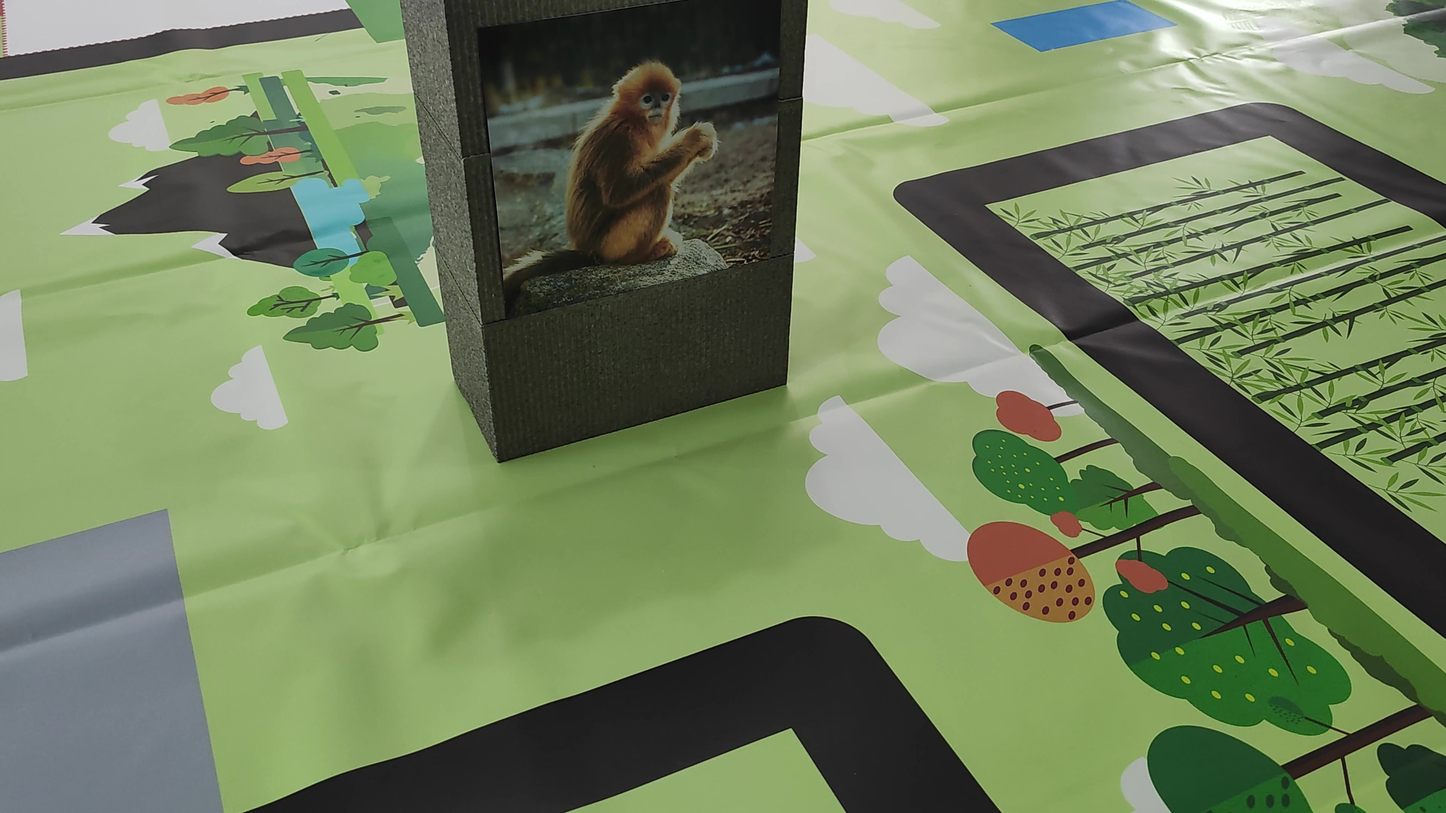monkey: (500, 41, 727, 300)
